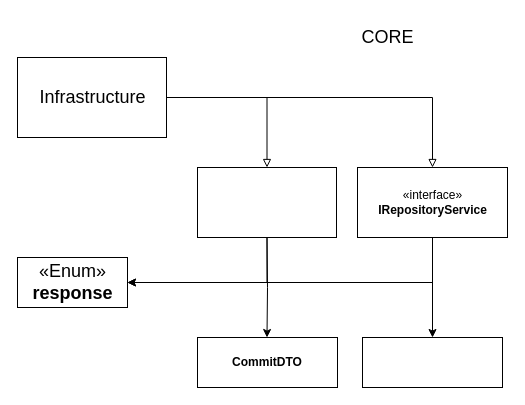
The diagram is 525 pixels wide and 405 high, and some of its shapes have lost their labels. The centre of each missing label's shape, as x and y in pixels:
"RepositoryDTO" goes at pixel 432 362.
"«interface» ICommitService" goes at pixel 266 202.
